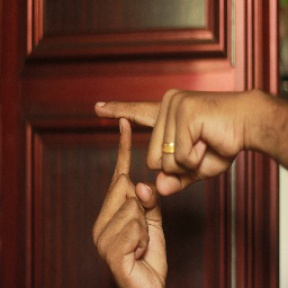T: (81, 88, 184, 225)
